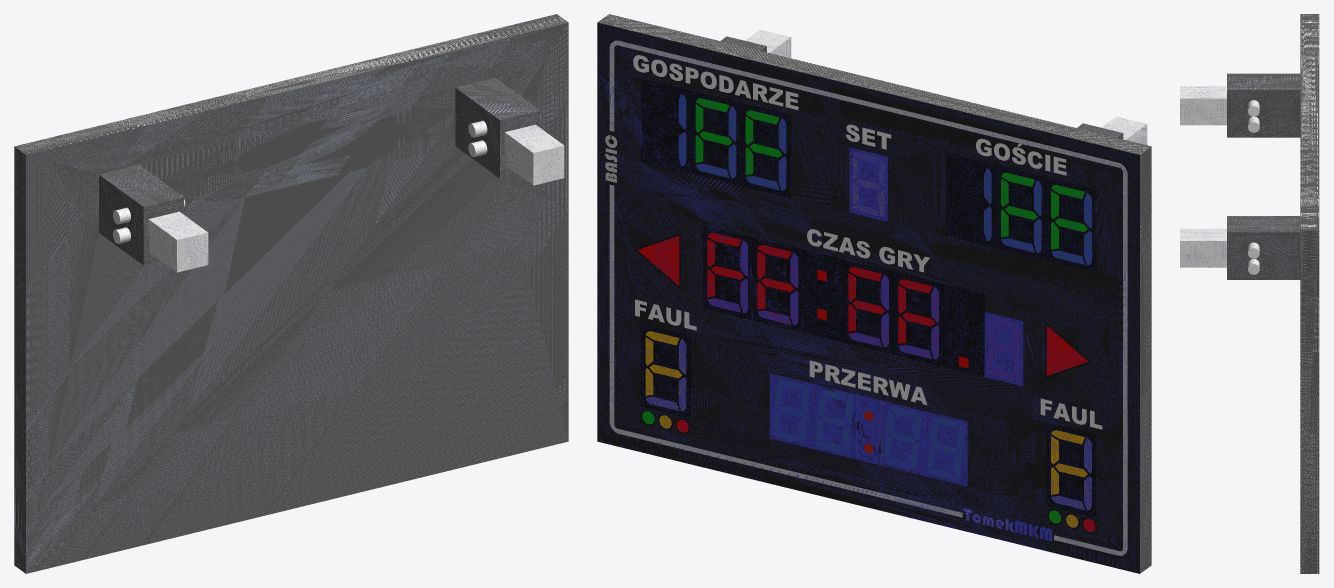
The picture shows the model from 3 angles, left to right: view 1: azimuth 30°, elevation 25°; view 2: azimuth 150°, elevation 25°; view 3: azimuth 270°, elevation 25°; orthographic projection. The views are drawn at different scales.
Parts seen in each view (by area): view 1: Komponent_20 (×3), Komponent_21 (×2); view 2: Komponent_19 (×5), Komponent_20, Komponent_1 (×8), Komponent_2 (×4), Komponent_17 (×4), Komponent_8 (×4), Komponent_11 (×2), Komponent_6, Komponent_5, Komponent_15 (×2), Komponent_14 (×2), Komponent_12 (+5 smaller); view 3: Komponent_20 (×5), Komponent_21 (×2).
Boxes of the visible parts, x1,y1,x2,y2 form: Komponent_20 (×3): (14,14,568,573); Komponent_21 (×2): (148,124,564,272); Komponent_19 (×5): (597,22,1139,573); Komponent_20: (597,14,1151,573); Komponent_1 (×8): (702,225,943,366); Komponent_2 (×4): (641,78,996,247); Komponent_17 (×4): (996,165,1096,272); Komponent_8 (×4): (641,324,1096,517); Komponent_11 (×2): (769,373,856,458); Komponent_6: (943,284,984,376); Komponent_5: (803,250,843,342); Komponent_15 (×2): (741,103,790,197); Komponent_14 (×2): (691,91,740,185); Komponent_12: (881,400,924,475); Komponent_20 (×5): (1227,14,1319,573); Komponent_21 (×2): (1180,86,1226,267).
Bounding box in the file's own units: 138 × 37.52 × 102.
